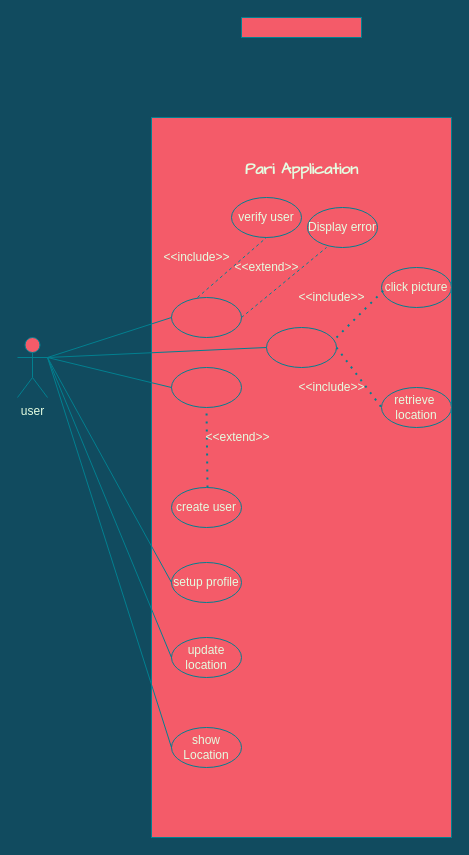
The diagram is 469 pixels wide and 855 high, and some of its shapes have lost their labels. The shapes that lost their labels are listed below. From the top down, each one's centre as x and y in pixels, then its label:
point (301, 27): Use Case Diagram
point (206, 317): Login
point (301, 347): SOS
point (206, 387): Signup
